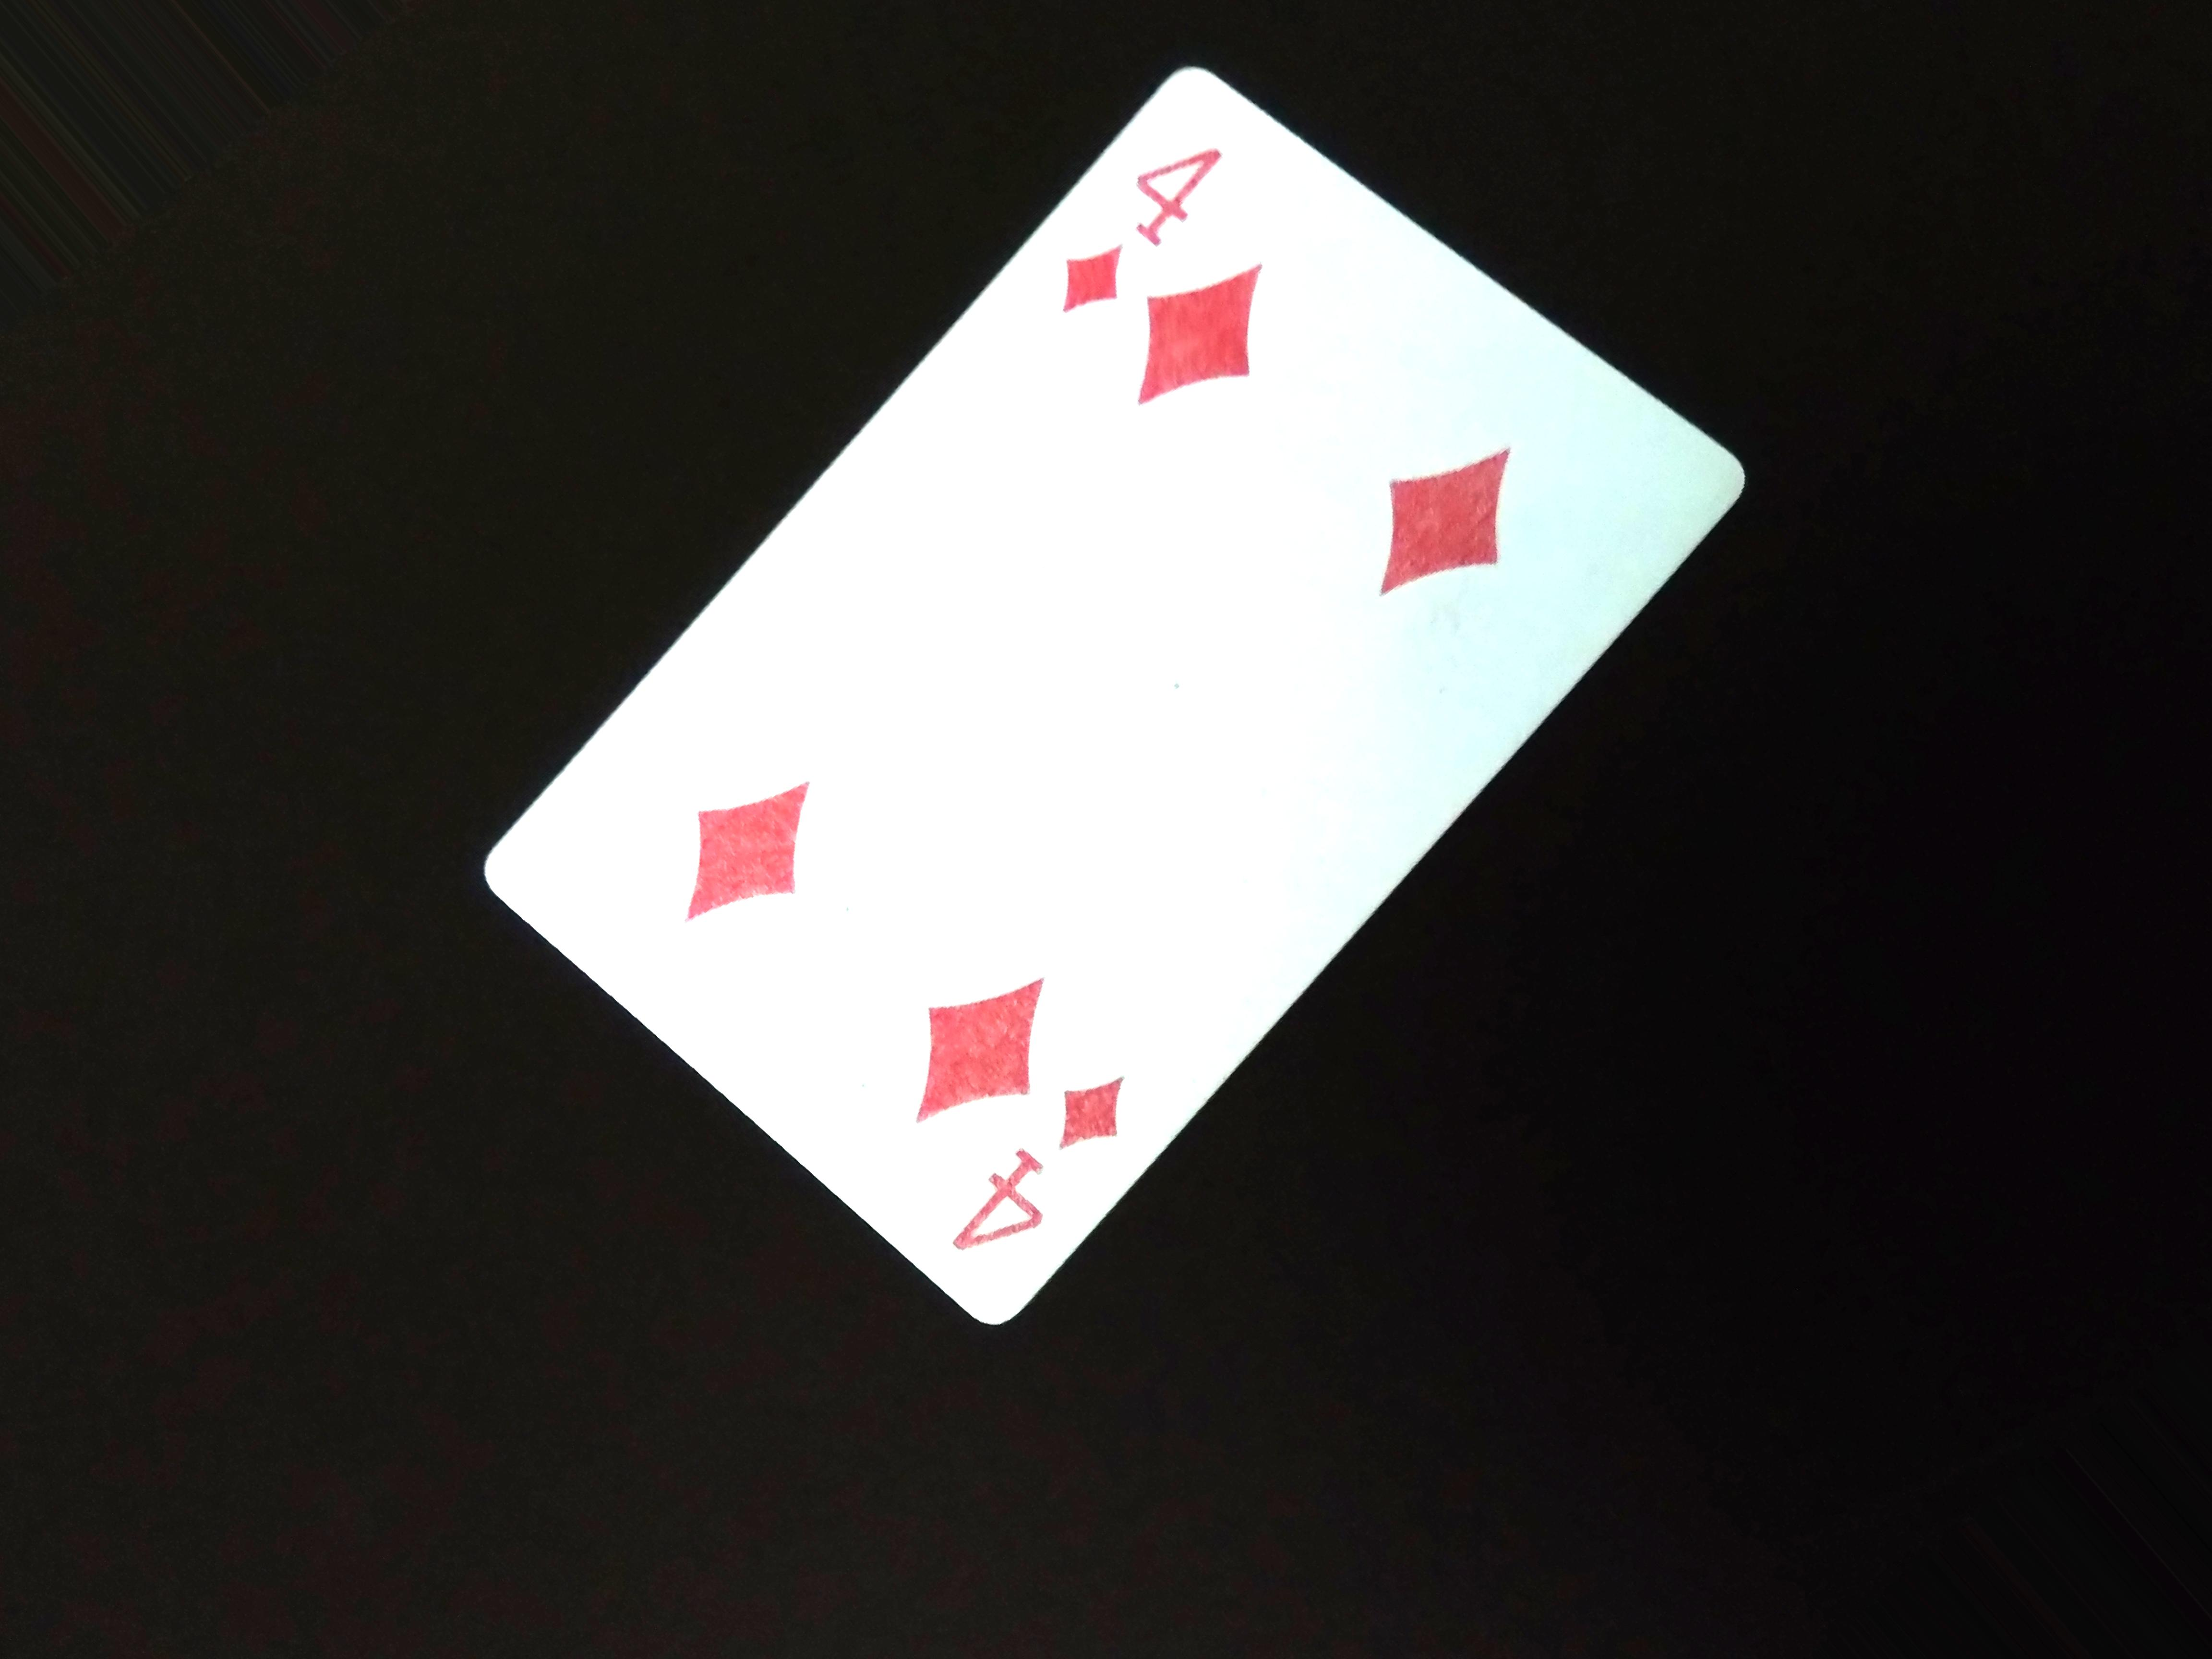4D: (1055, 112, 1261, 329)
